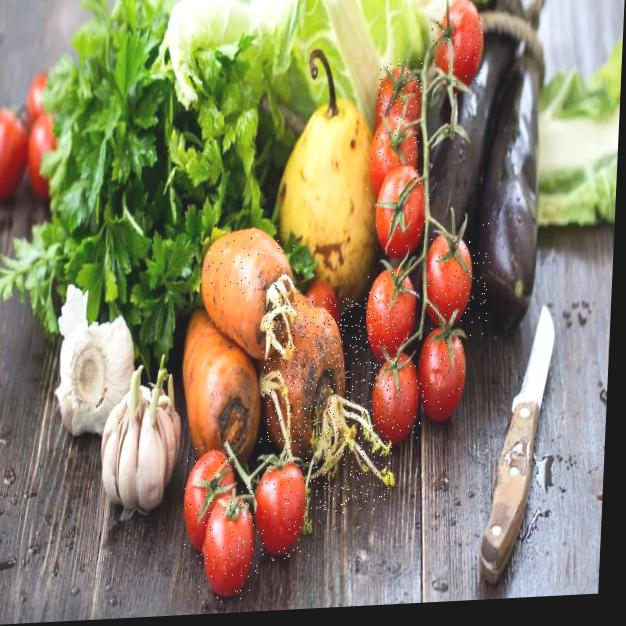carrots: (256, 295, 400, 517), (170, 301, 265, 465), (201, 228, 304, 370)
tomatoes: (249, 441, 315, 562), (425, 222, 492, 338), (197, 484, 262, 603), (182, 446, 240, 557), (361, 264, 421, 367), (418, 314, 472, 424), (372, 163, 431, 254), (369, 354, 425, 443), (366, 106, 422, 194), (429, 0, 485, 86), (375, 57, 424, 127)
